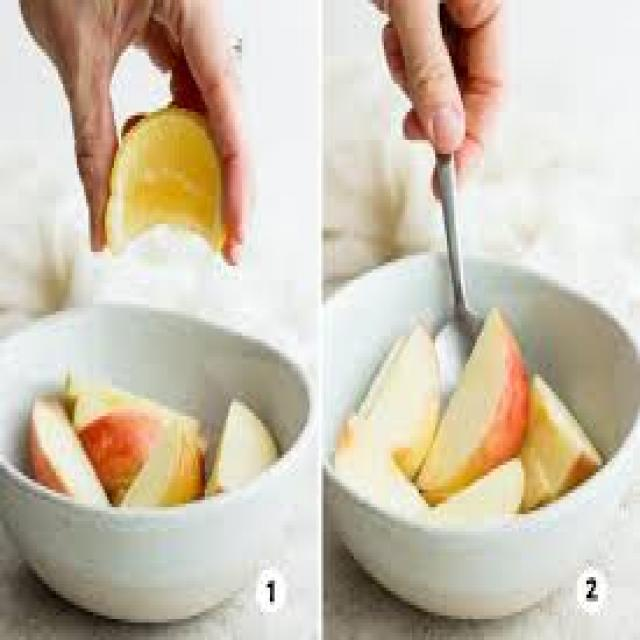Apple: (431, 316, 528, 482), (350, 333, 434, 487), (29, 390, 100, 508), (125, 425, 205, 510), (204, 396, 277, 488), (415, 459, 532, 515), (528, 378, 598, 471), (73, 380, 190, 427), (79, 408, 164, 471), (520, 447, 552, 502)
